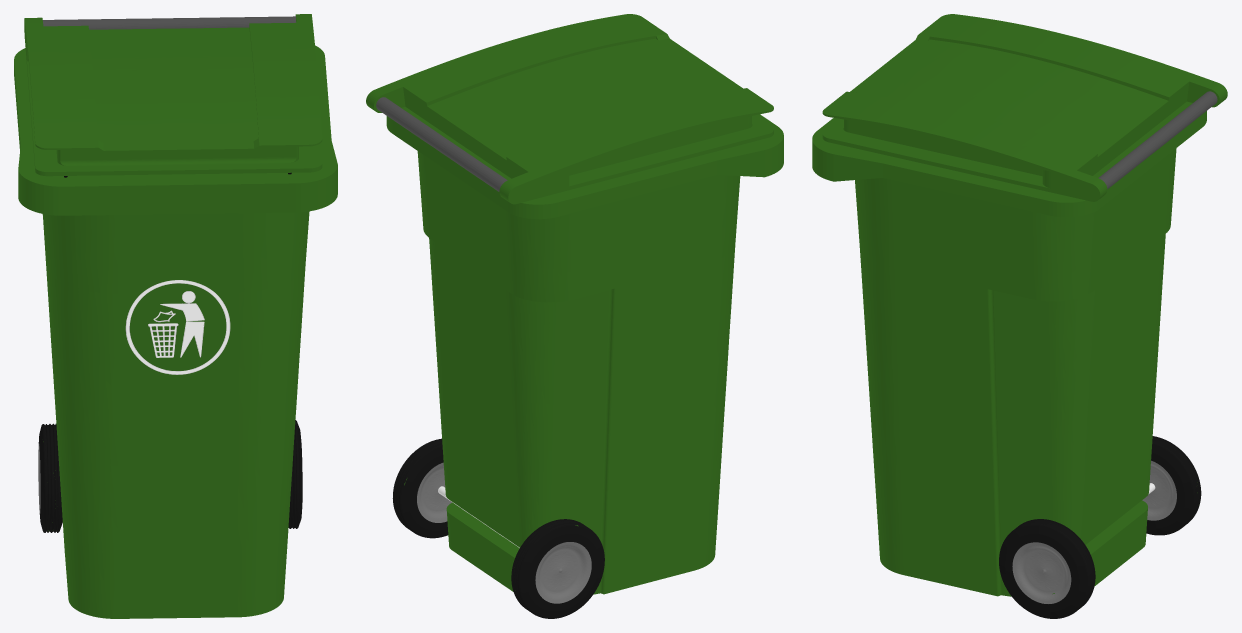
Rendered from bin1.glb.
3 views of the same model, side by side, from view 1: azimuth 30°, elevation 25°; view 2: azimuth 150°, elevation 25°; view 3: azimuth 270°, elevation 25° (orthographic). The views are drawn at different scales.
Parts seen in each view (by area): view 1: poubelle poubelle [261878], logo; view 2: poubelle poubelle [261878]; view 3: poubelle poubelle [261878].
Boxes of the visible parts, box(x1,y1,x2,y2) form: poubelle poubelle [261878]: box(14, 14, 337, 618); logo: box(125, 280, 230, 374); poubelle poubelle [261878]: box(366, 14, 783, 618); poubelle poubelle [261878]: box(812, 14, 1227, 618).
Bounding box in the file's own units: 0.912 × 1.19 × 0.9579.
8 materials, 3 textured.
